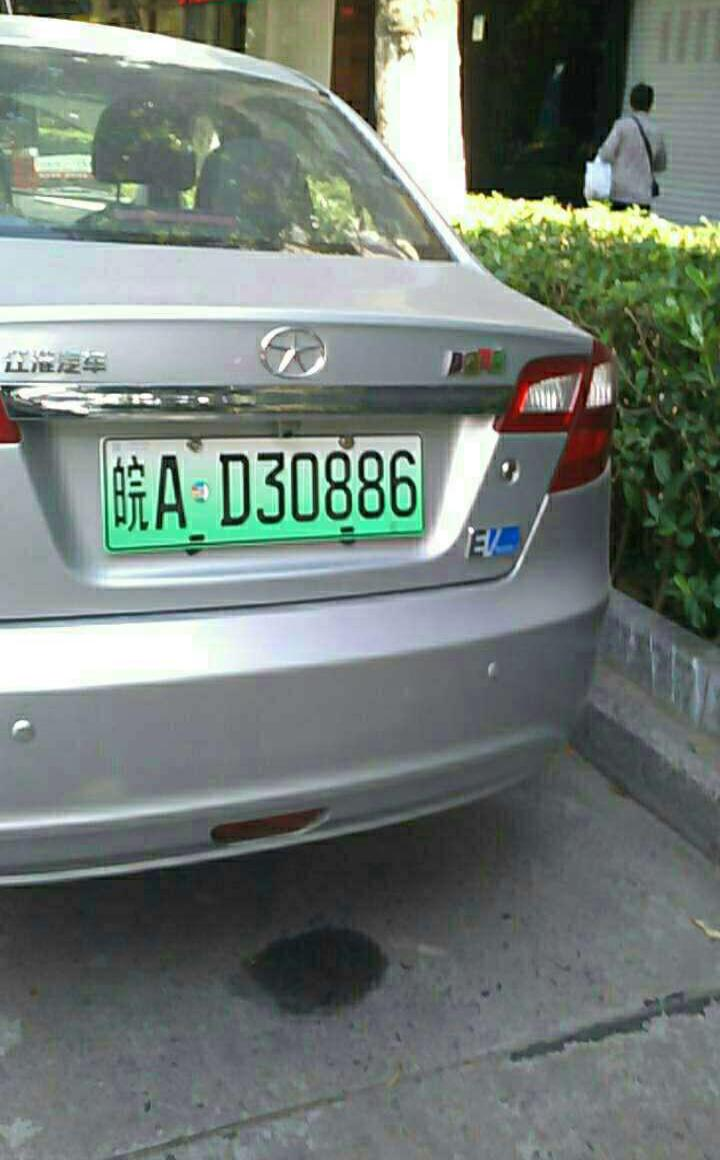car_id: (111, 435, 423, 549)
